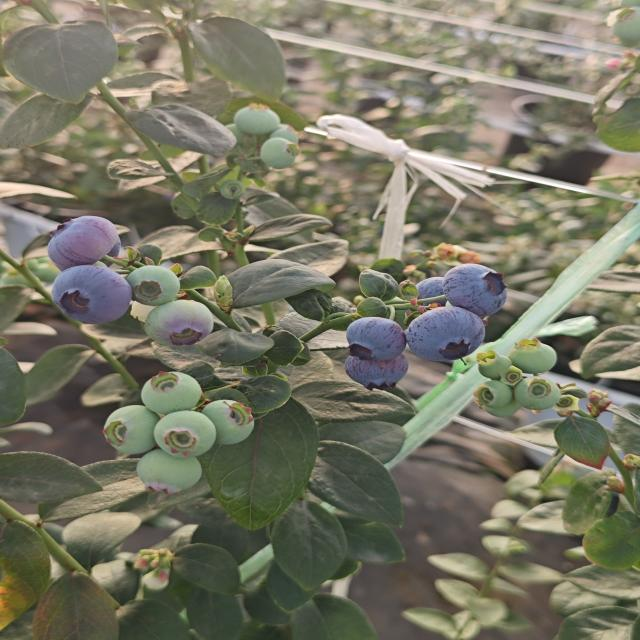ripe: (49, 263, 134, 327), (403, 304, 488, 365), (44, 214, 123, 272), (439, 262, 510, 319), (332, 347, 417, 392), (341, 315, 414, 361), (402, 269, 461, 312)
